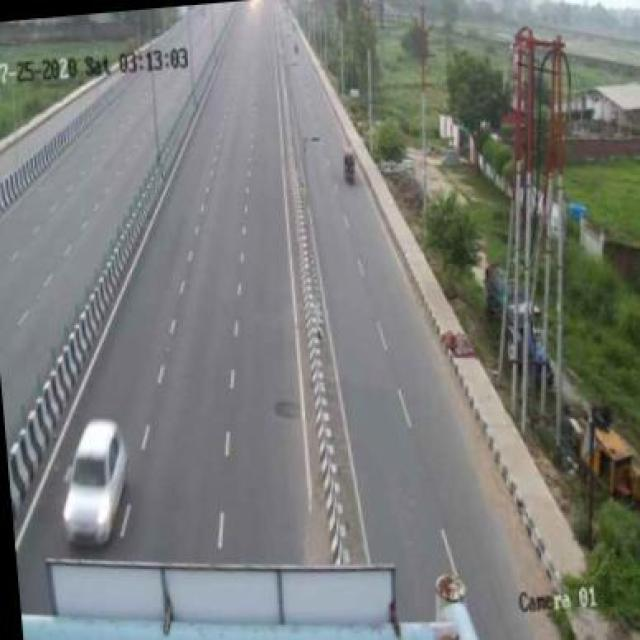car: (46, 416, 144, 554)
